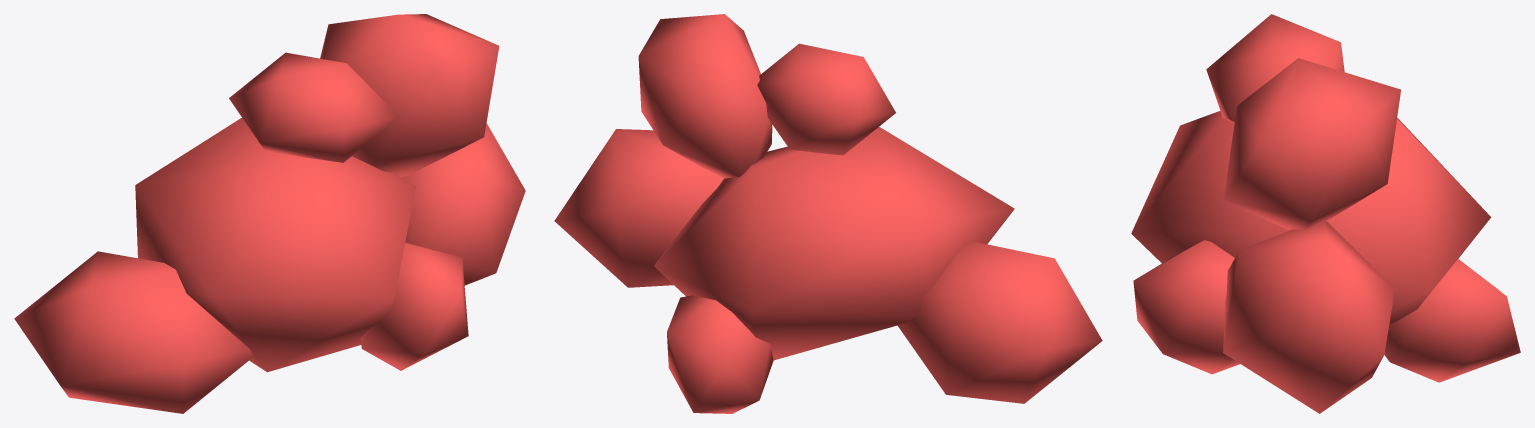
The model's file is Monster_1.FBX.
The picture shows the model from 3 angles, left to right: view 1: azimuth 30°, elevation 25°; view 2: azimuth 150°, elevation 25°; view 3: azimuth 270°, elevation 25°; orthographic projection. The views are drawn at different scales.
Visible parts, largest first — view 1: GeoSphere001, GeoSphere007, GeoSphere003, GeoSphere006, GeoSphere002, GeoSphere005; view 2: GeoSphere001, GeoSphere007, GeoSphere003, GeoSphere002, GeoSphere006, GeoSphere004; view 3: GeoSphere001, GeoSphere002, GeoSphere003, GeoSphere004, GeoSphere005, GeoSphere006.
Boxes of the visible parts, left/top/right/bottom form: GeoSphere001: left=135, top=118, right=416, bottom=372; GeoSphere007: left=14, top=251, right=253, bottom=413; GeoSphere003: left=320, top=14, right=499, bottom=177; GeoSphere006: left=229, top=52, right=399, bottom=162; GeoSphere002: left=401, top=123, right=525, bottom=285; GeoSphere005: left=360, top=242, right=468, bottom=370; GeoSphere001: left=654, top=127, right=1014, bottom=360; GeoSphere007: left=897, top=241, right=1102, bottom=403; GeoSphere003: left=638, top=14, right=772, bottom=178; GeoSphere002: left=554, top=129, right=723, bottom=287; GeoSphere006: left=757, top=43, right=895, bottom=155; GeoSphere004: left=667, top=295, right=773, bottom=413; GeoSphere001: left=1131, top=111, right=1491, bottom=325; GeoSphere002: left=1223, top=221, right=1394, bottom=413; GeoSphere003: left=1223, top=58, right=1400, bottom=230; GeoSphere004: left=1384, top=259, right=1520, bottom=382; GeoSphere005: left=1133, top=240, right=1239, bottom=374; GeoSphere006: left=1206, top=14, right=1344, bottom=123.
Bounding box in the file's own units: 21.59 × 14.24 × 13.85.
